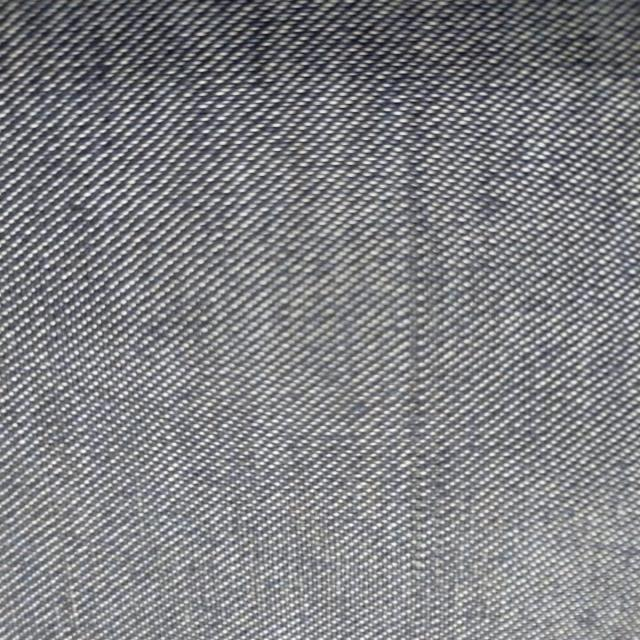Line: (399, 100, 420, 615)
